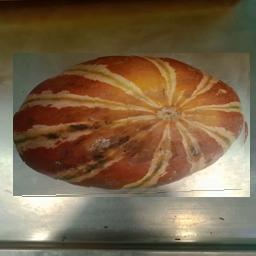Melon Semirotten: (13, 54, 250, 198)
